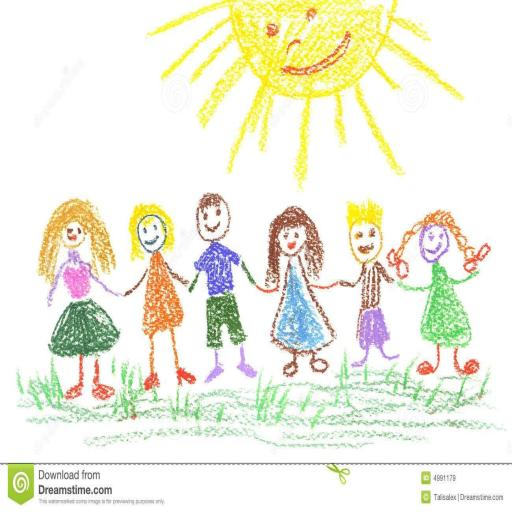person: (41, 186, 118, 412), (398, 202, 492, 380), (261, 188, 335, 383), (132, 188, 184, 398), (198, 177, 247, 384), (341, 186, 393, 379)
